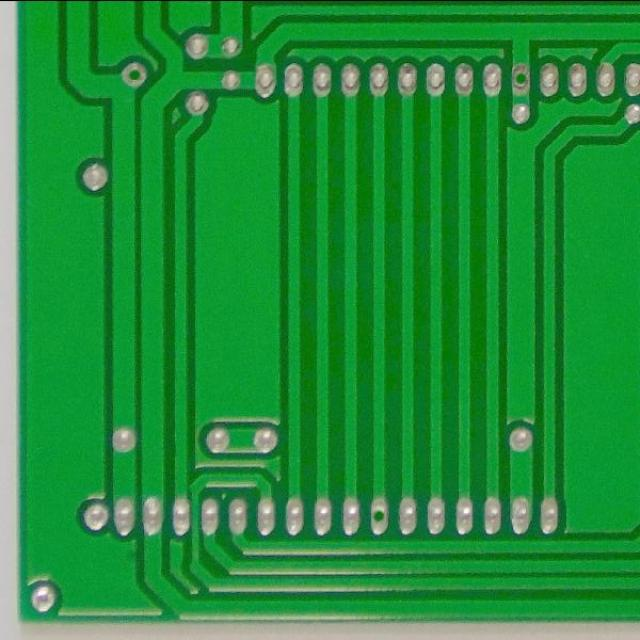Missing_Hole: (116, 60, 152, 90), (366, 498, 392, 535), (509, 62, 533, 94)
